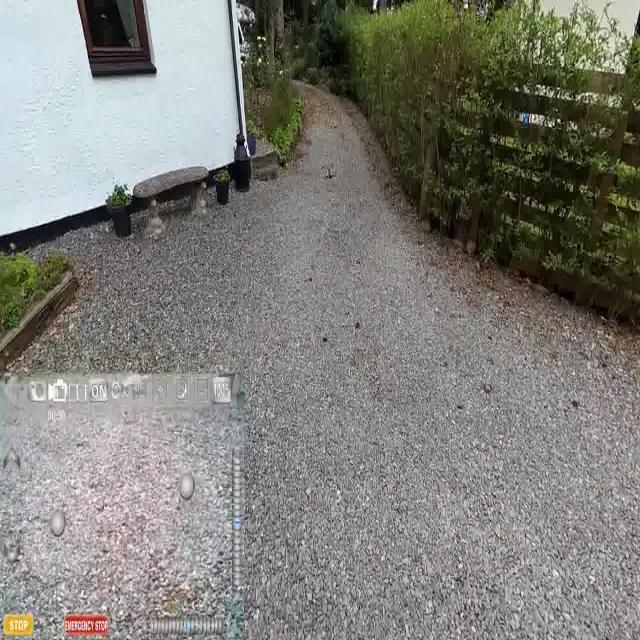drones: (322, 158, 338, 182)
